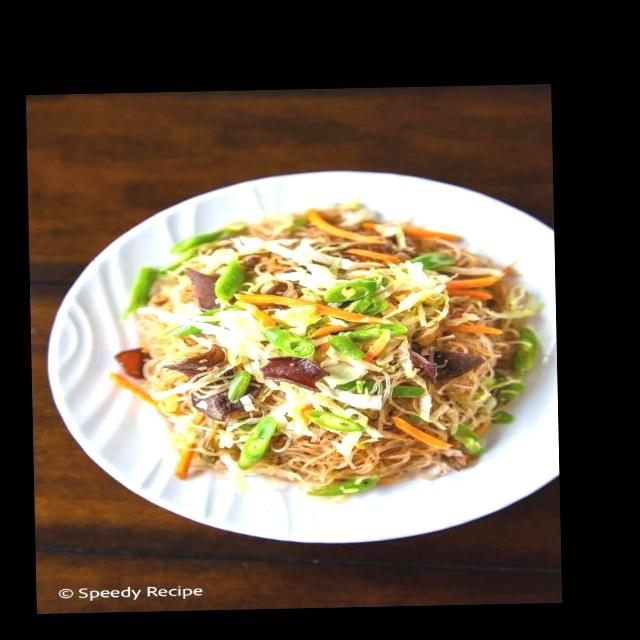pancit bihon: (140, 202, 535, 487)
